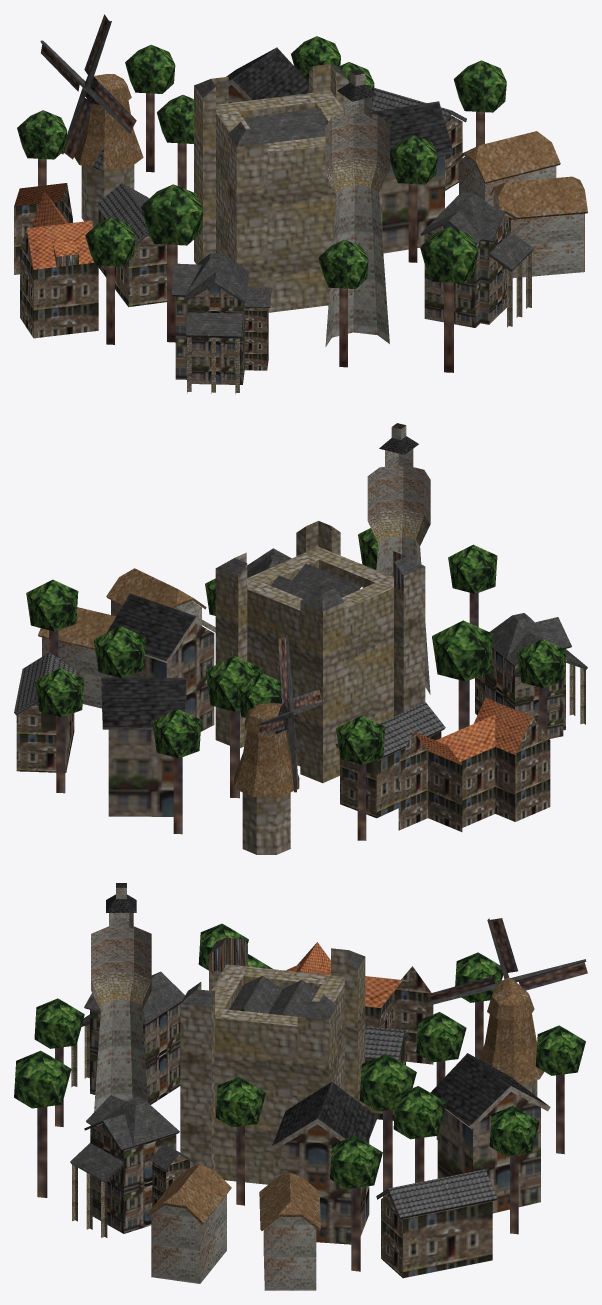
The model's file is city_european_industrial_1.glb.
3 renders of one model, top to bottom at view 1: azimuth 30°, elevation 25°; view 2: azimuth 150°, elevation 25°; view 3: azimuth 270°, elevation 25°, orthographic. The views are drawn at different scales.
Parts seen in each view (by area): view 1: Cube.068; view 2: Cube.068; view 3: Cube.068.
Boxes of the visible parts, box(x1,y1,x2,y2) form: Cube.068: box(14, 14, 587, 394); Cube.068: box(14, 423, 587, 854); Cube.068: box(14, 883, 587, 1290).
Size of the model in its own units: 3.16 by 1.74 by 3.04.
Materials: 1 (1 with a texture image).
